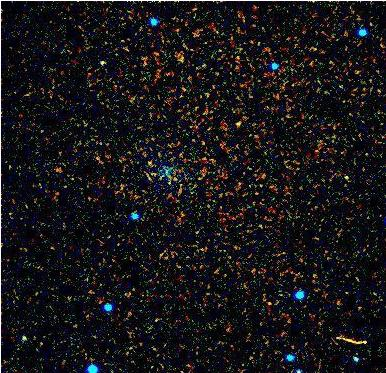star: (85, 44, 115, 74)
